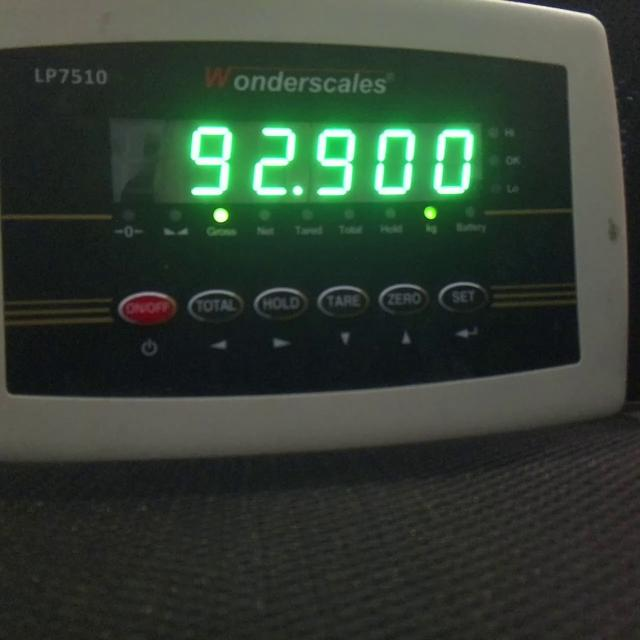.: (292, 184, 305, 196)
0: (374, 128, 416, 195), (434, 128, 474, 195)
2: (252, 126, 297, 196)
9: (189, 126, 233, 197), (315, 128, 356, 196)
